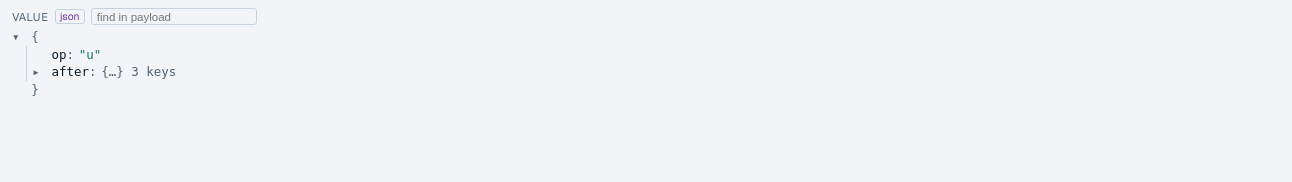
Test: JsonTree › searching inside the payload › counts the matches
This screenshot has width=1292, height=182.
In the search field with placeholder "find in payload": x=174, y=17 x1=91 y1=8 x2=257 y2=25, type "widget"
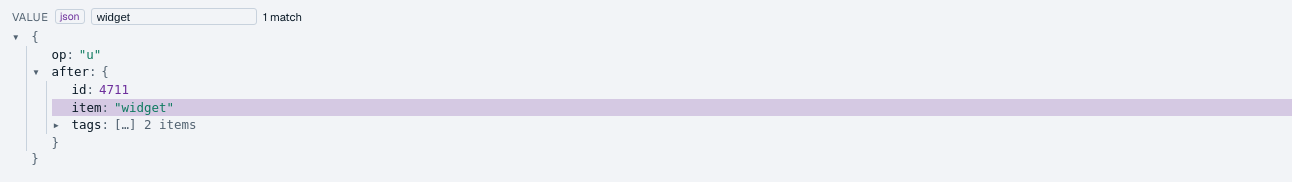
Result: the text "1 match" is shown at x1=263 y1=10 x2=302 y2=24
